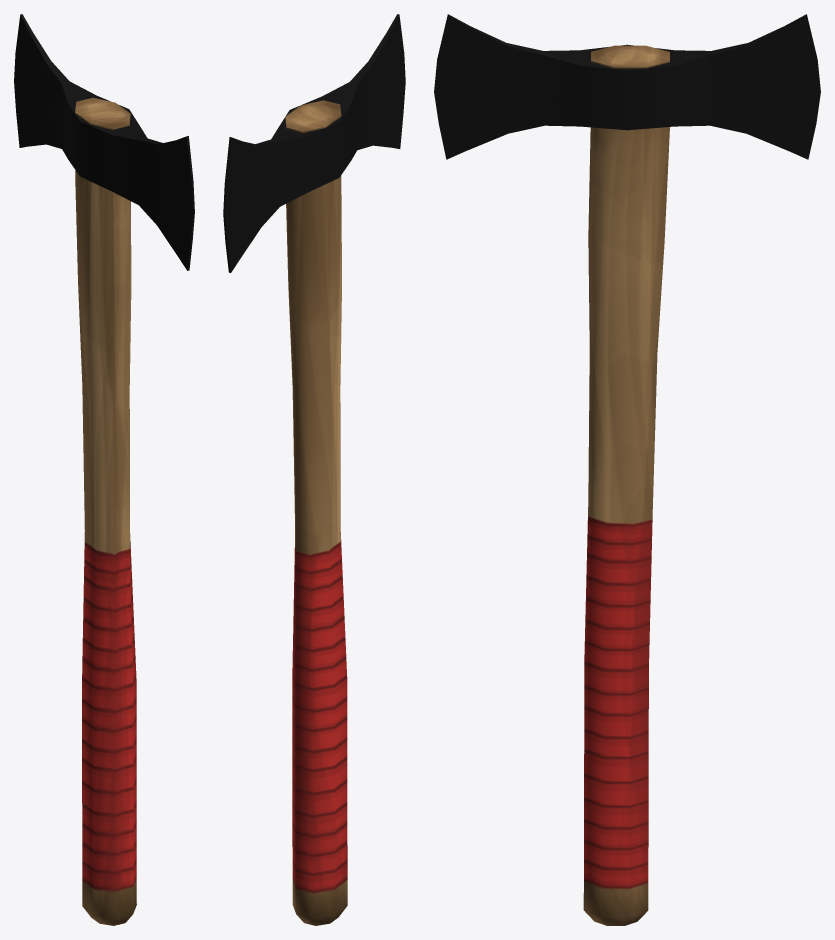
Rendered from Doppelaxt.FBX.
3 views of the same model, side by side, from view 1: azimuth 30°, elevation 25°; view 2: azimuth 150°, elevation 25°; view 3: azimuth 270°, elevation 25° (orthographic). The views are drawn at different scales.
Visible parts, largest first — view 1: Plane002; view 2: Plane002; view 3: Plane002.
Boxes of the visible parts, x1,y1,x2,y2 form: Plane002: (14, 14, 194, 925); Plane002: (223, 14, 405, 925); Plane002: (434, 14, 820, 925).
Size of the model in its own units: 5.86 by 94.99 by 36.83.
